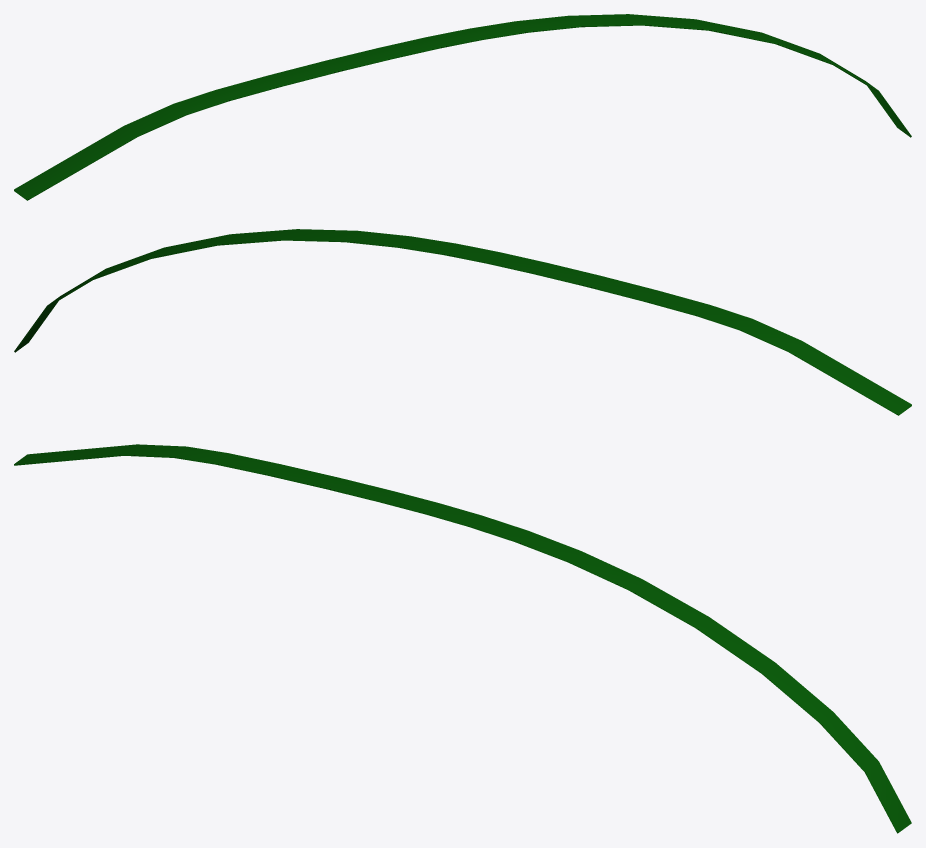
The model's file is arrowMedium.fbx.
3 renders of one model, top to bottom at view 1: azimuth 30°, elevation 25°; view 2: azimuth 150°, elevation 25°; view 3: azimuth 330°, elevation 25°, orthographic.
Parts seen in each view (by area): view 1: arrowMedium; view 2: arrowMedium; view 3: arrowMedium.
Boxes of the visible parts, x1,y1,x2,y2 form: arrowMedium: [14, 14, 911, 200]; arrowMedium: [14, 229, 911, 415]; arrowMedium: [14, 444, 911, 833].
Size of the model in its own units: 852 by 190 by 22.41.
